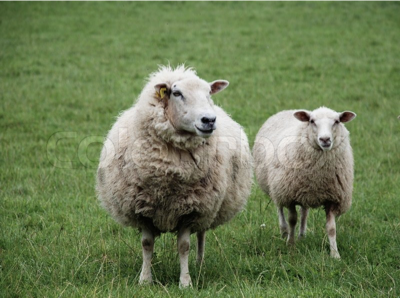koyun: (96, 65, 243, 292), (255, 102, 357, 261)
